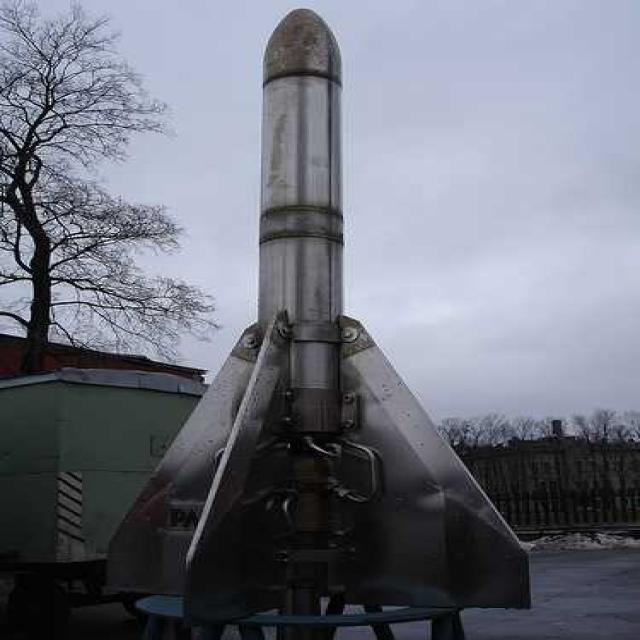missile: (107, 0, 546, 640)
